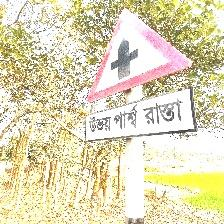Crossroad: (81, 7, 197, 143)
